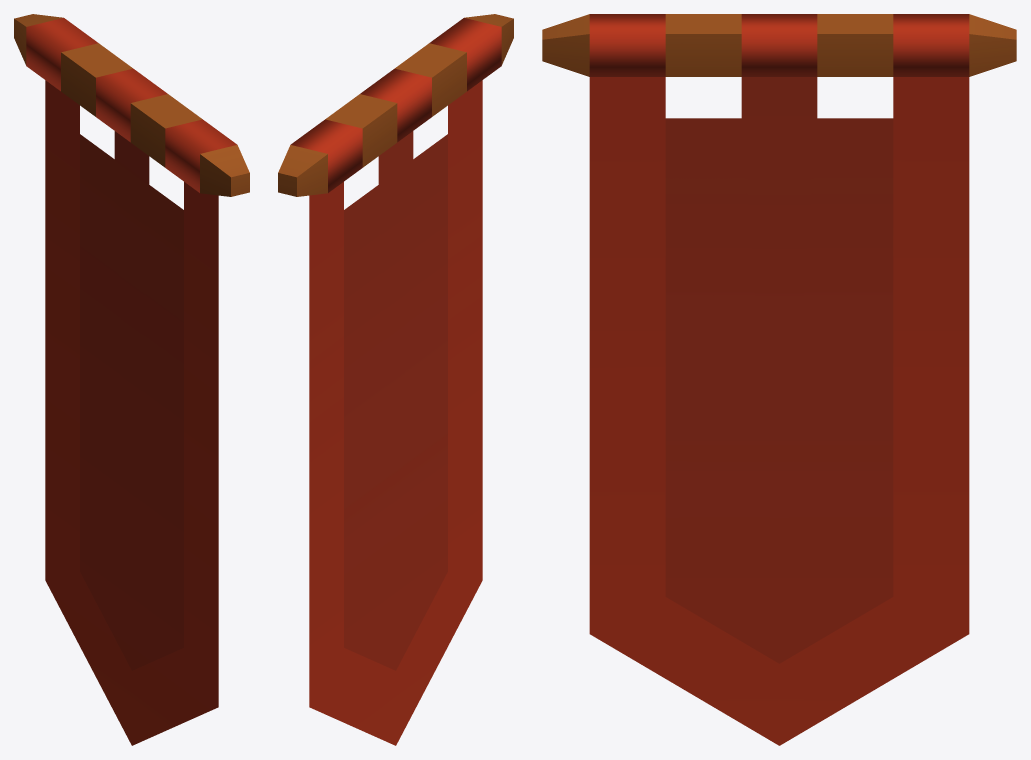
Rendered from banniere-vent.glb.
The picture shows the model from 3 angles, left to right: view 1: azimuth 30°, elevation 25°; view 2: azimuth 150°, elevation 25°; view 3: azimuth 270°, elevation 25°; orthographic projection. The views are drawn at different scales.
Parts seen in each view (by area): view 1: banner-red; view 2: banner-red; view 3: banner-red.
Part boxes in pixels (x1,y1,x2,y2): banner-red: (14, 14, 249, 745); banner-red: (278, 14, 513, 745); banner-red: (542, 14, 1016, 745).
Bounding box in the file's own units: 0.2681 × 4.5 × 2.68.
1 material, 1 textured.
